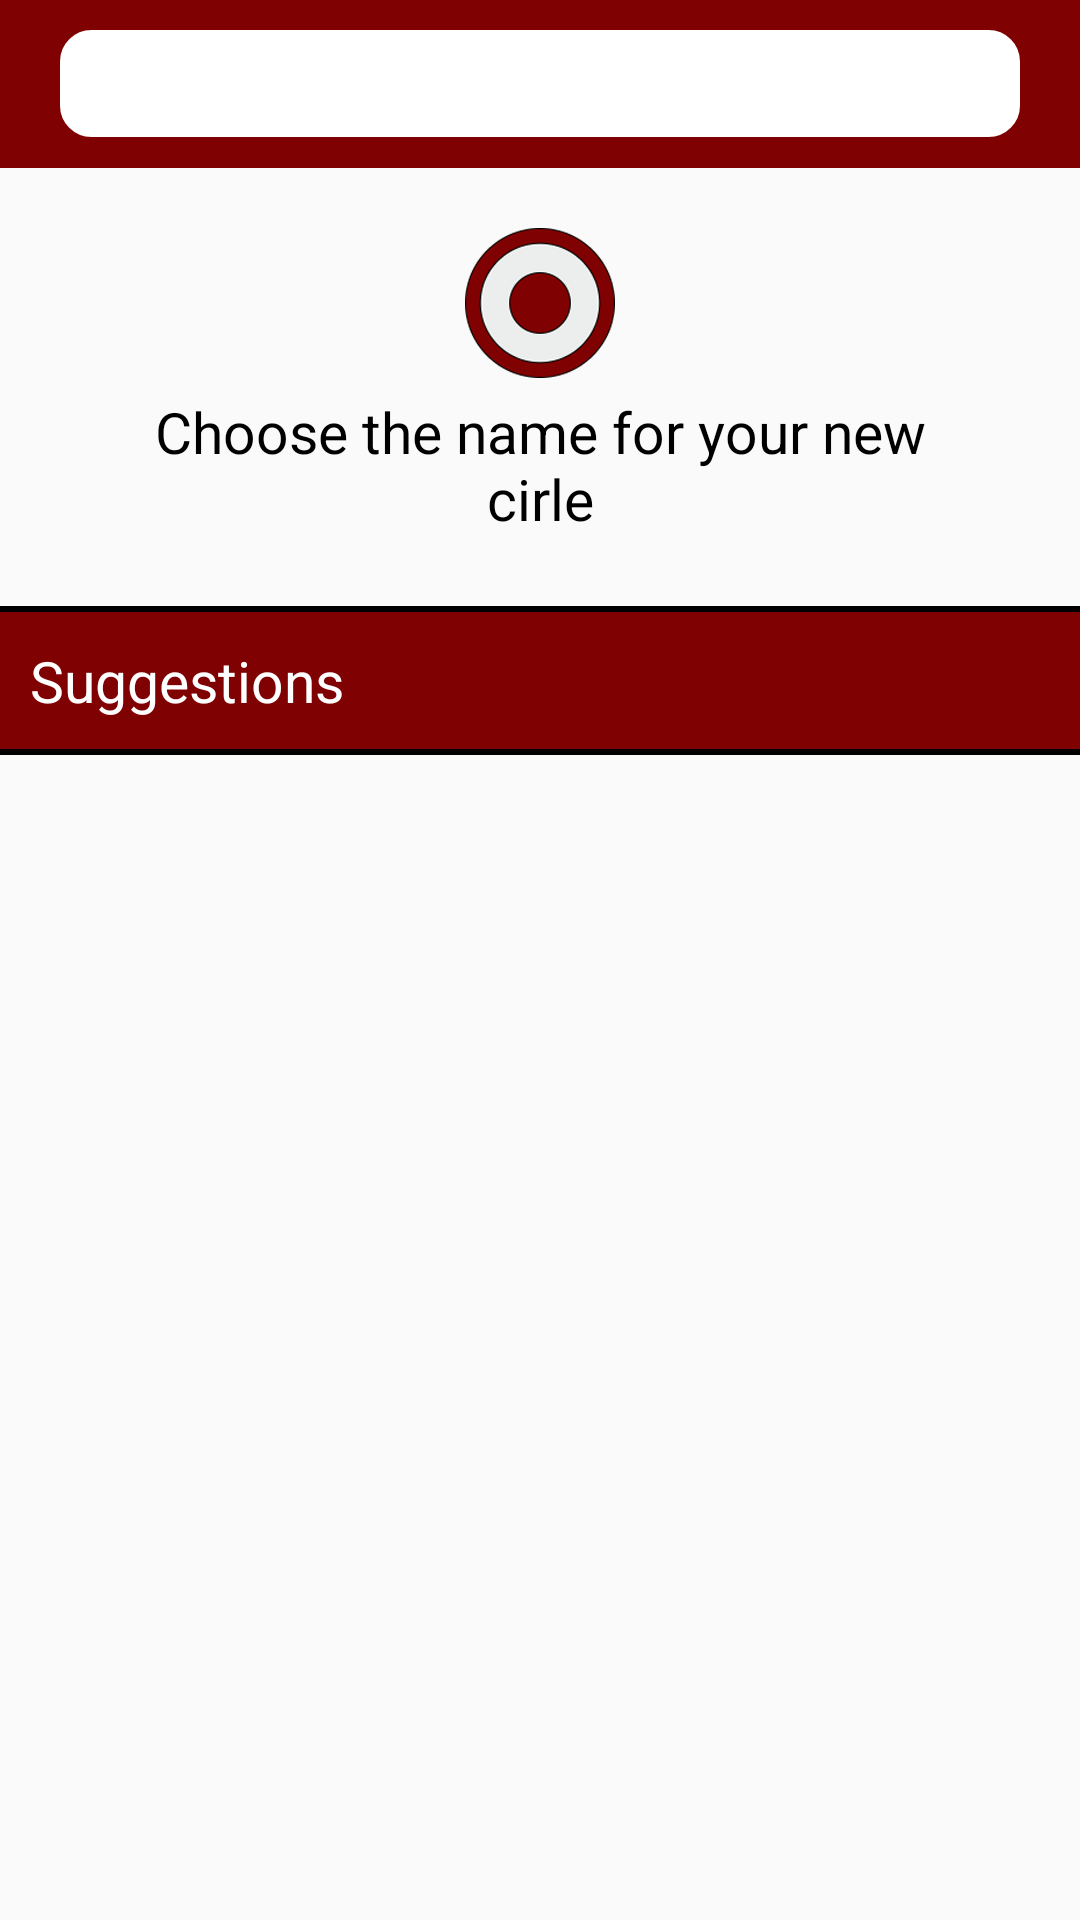

Point at icon controls on the screen. Image size 1080×1920, points as [x,y].
create circle: [540,303]
